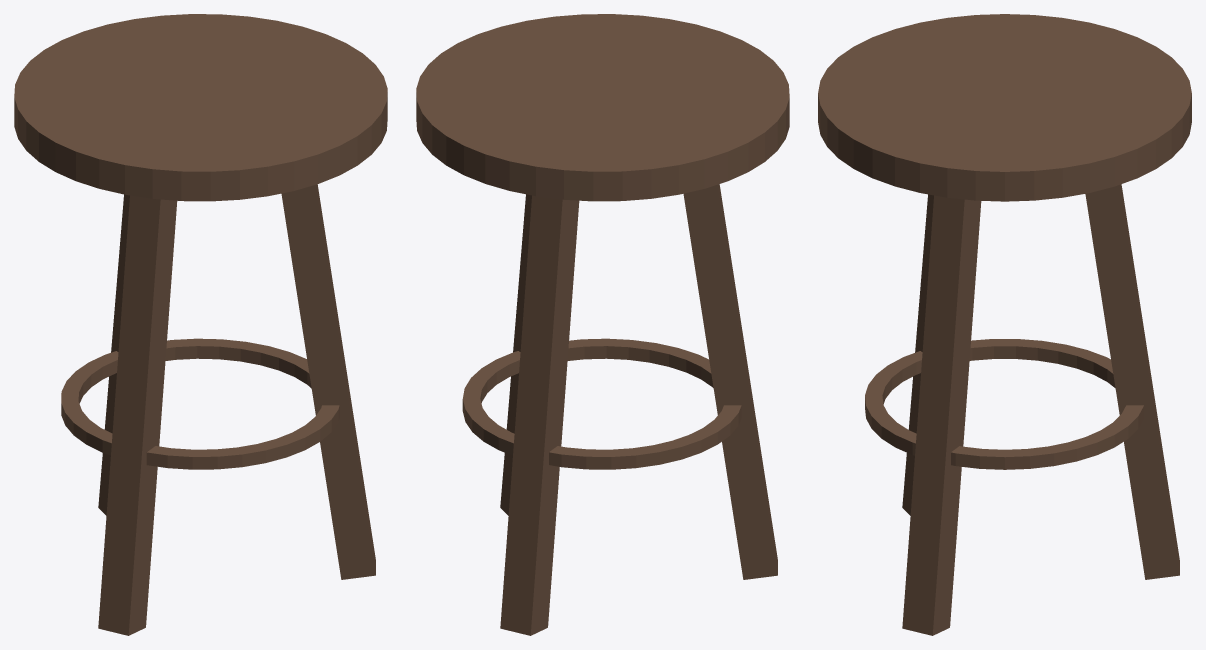
Rendered from stool-low.glb.
3 views of the same model, side by side, from view 1: azimuth 30°, elevation 25°; view 2: azimuth 150°, elevation 25°; view 3: azimuth 270°, elevation 25° (orthographic).
Parts seen in each view (by area): view 1: wood; view 2: wood; view 3: wood.
Boxes of the visible parts, x1,y1,x2,y2 form: wood: (14, 14, 387, 635); wood: (416, 14, 789, 635); wood: (818, 14, 1191, 635).
Size of the model in its own units: 0.32 by 0.453 by 0.32.
